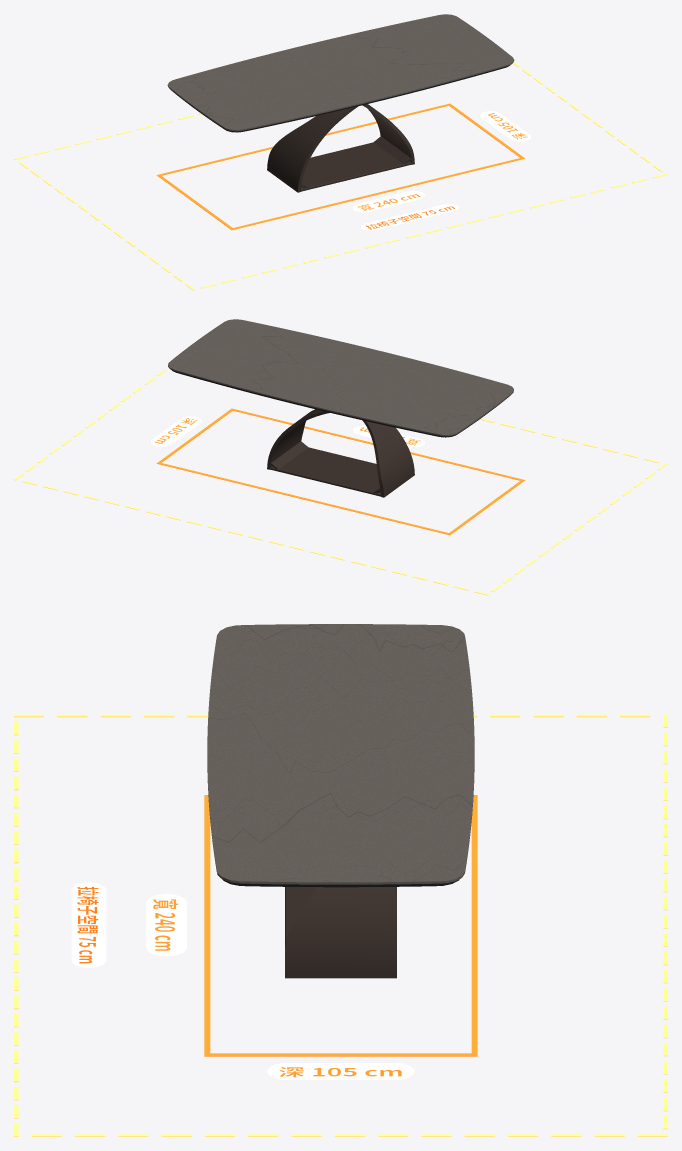
File: ownHeart-f.glb
3 renders of one model, top to bottom at view 1: azimuth 30°, elevation 25°; view 2: azimuth 150°, elevation 25°; view 3: azimuth 270°, elevation 25°, orthographic. The views are drawn at different scales.
Visible parts, largest first — view 1: object 1, ar-frame, object 13, object 9, object 11, object 3; view 2: object 1, ar-frame, object 13, object 9, object 11, object 3; view 3: object 1, ar-frame, object 11, object 13.
Boxes of the visible parts, x1,y1,x2,y2 form: object 1: [167, 14, 514, 131]; ar-frame: [14, 62, 667, 290]; object 13: [299, 142, 411, 191]; object 9: [267, 106, 358, 192]; object 11: [362, 104, 414, 164]; object 3: [171, 65, 510, 132]; object 1: [168, 319, 513, 436]; ar-frame: [14, 369, 667, 595]; object 13: [270, 447, 382, 496]; object 9: [362, 420, 414, 497]; object 11: [267, 409, 329, 469]; object 3: [172, 370, 510, 437]; object 1: [207, 624, 474, 884]; ar-frame: [14, 714, 667, 1136]; object 11: [285, 887, 396, 978]; object 13: [285, 887, 396, 946].
Size of the model in its own units: 3.92 by 0.7517 by 2.57.
8 materials, 4 textured.
